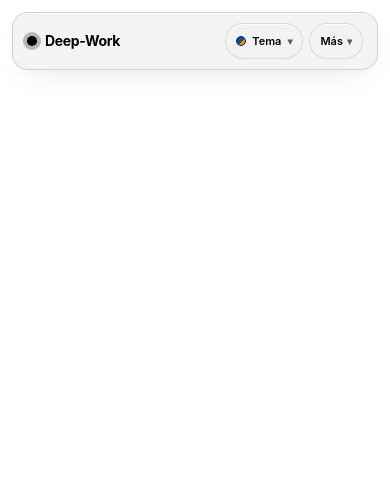
Test: UI Components Security & Input Validation › uses solid opaque aligned dropdown and collapsible secondary panel in HeaderBar
The width and height of the screenshot is (390, 502).
Later steps or results of the test are not shown.
Theme dropdown is 100% solid, z-50, right-aligned and constrained to mobile viewport
Click the button with aria-label "Seleccionar tema" at (264, 41), box [225,23,304,59]
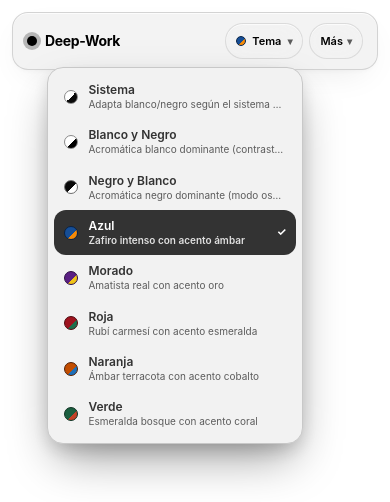
Expand secondary collapsible accordion (includes Cuenta y sesiones) and closes on outside click
Click the button with aria-label "Opciones adicionales" at (336, 41), box [310,23,363,59]
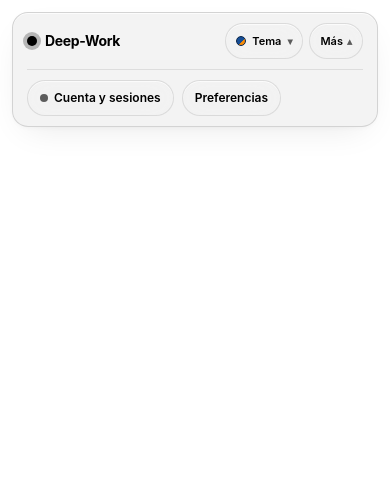
Expected: the button "Cuenta y sesiones" is shown, [27,80,174,116]
